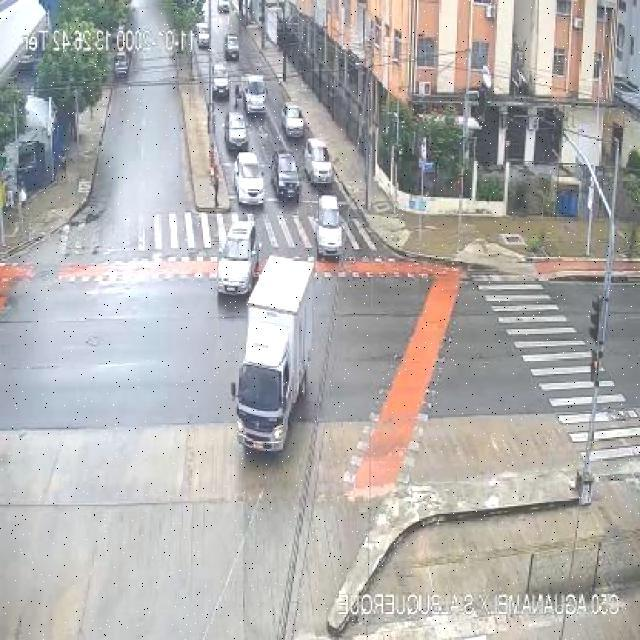Car: (210, 214, 260, 298), (227, 148, 268, 210), (312, 193, 347, 259), (305, 138, 340, 190), (270, 150, 300, 200), (278, 96, 305, 140), (220, 111, 248, 150)
Truck: (222, 255, 318, 456)
